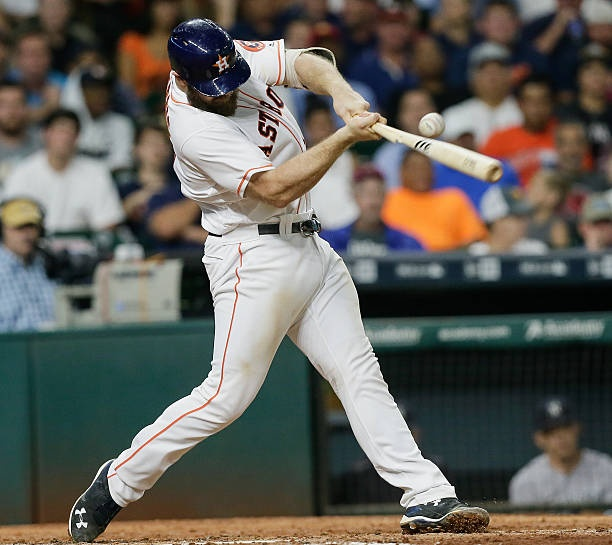bita: (362, 119, 502, 190)
